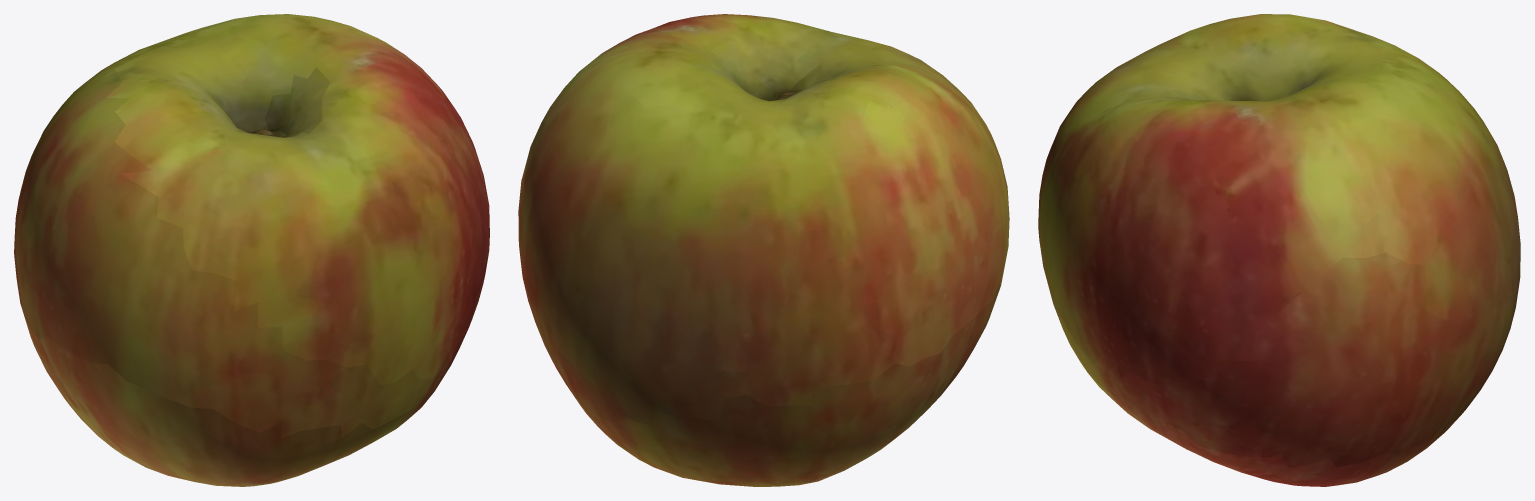
File: food_produce_apple_f01.glb
3 views of the same model, side by side, from view 1: azimuth 30°, elevation 25°; view 2: azimuth 150°, elevation 25°; view 3: azimuth 270°, elevation 25° (orthographic).
Parts seen in each view (by area): view 1: part0; view 2: part0; view 3: part0.
Part boxes in pixels (<box>): part0: <box>14,14,489,486</box>; part0: <box>518,14,1009,486</box>; part0: <box>1038,14,1520,486</box>.
Size of the model in its own units: 0.0738 by 0.0674 by 0.0746.
Materials: 1 (1 with a texture image).
